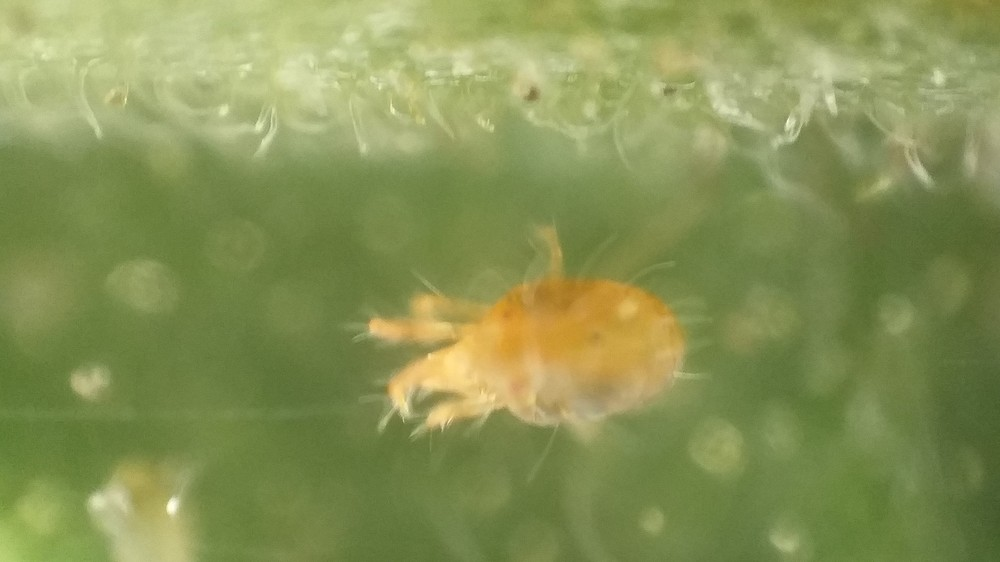Aracnido Rojo: (312, 209, 736, 468)
